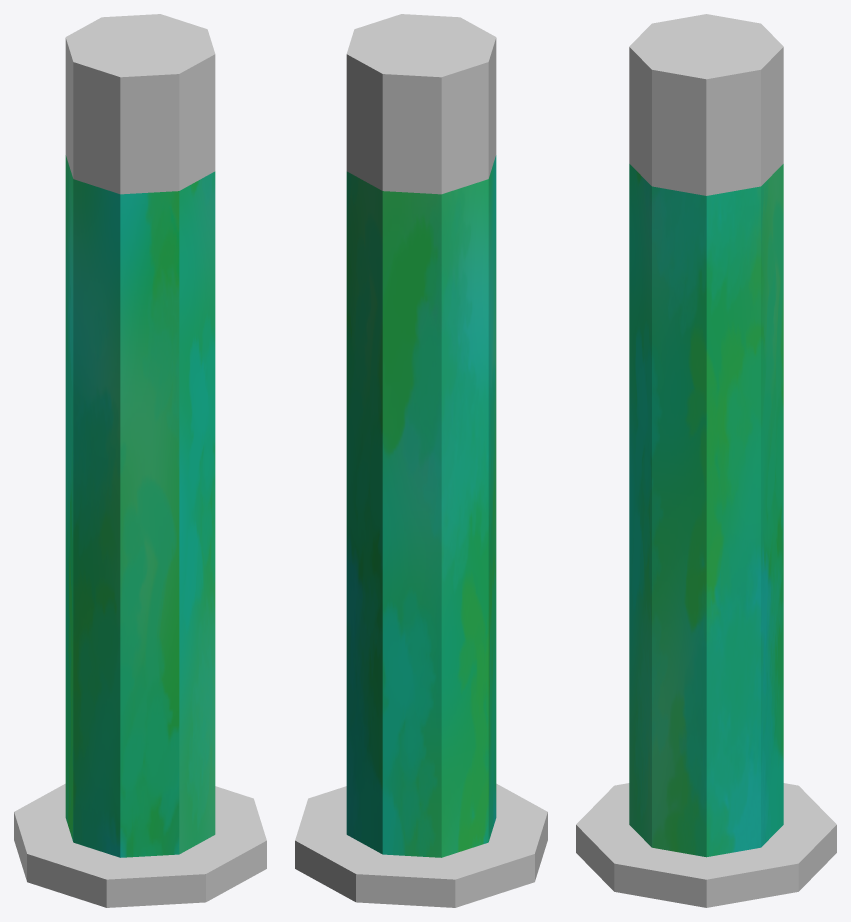
The model's file is Prop_Small_Beaker2.glb.
The picture shows the model from 3 angles, left to right: view 1: azimuth 30°, elevation 25°; view 2: azimuth 150°, elevation 25°; view 3: azimuth 270°, elevation 25°; orthographic projection.
Visible parts, largest first — view 1: Props_Small_Beaker2; view 2: Props_Small_Beaker2; view 3: Props_Small_Beaker2.
Boxes of the visible parts, x1=… form: Props_Small_Beaker2: x1=14, y1=14, x2=266, y2=907; Props_Small_Beaker2: x1=295, y1=14, x2=547, y2=907; Props_Small_Beaker2: x1=576, y1=14, x2=836, y2=907.
Bounding box in the file's own units: 0.2026 × 0.6909 × 0.2026.
Materials: 1 (1 with a texture image).
